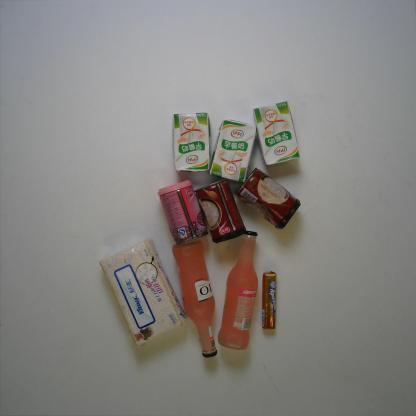Alcohol: (172, 237, 218, 358), (218, 231, 258, 350)
Candy: (261, 270, 277, 330)
Canned Food: (235, 167, 301, 230), (157, 179, 209, 246), (194, 178, 246, 244)
Milk: (209, 118, 257, 182), (253, 101, 300, 166), (172, 112, 211, 173)
Tissue: (99, 238, 188, 349)
